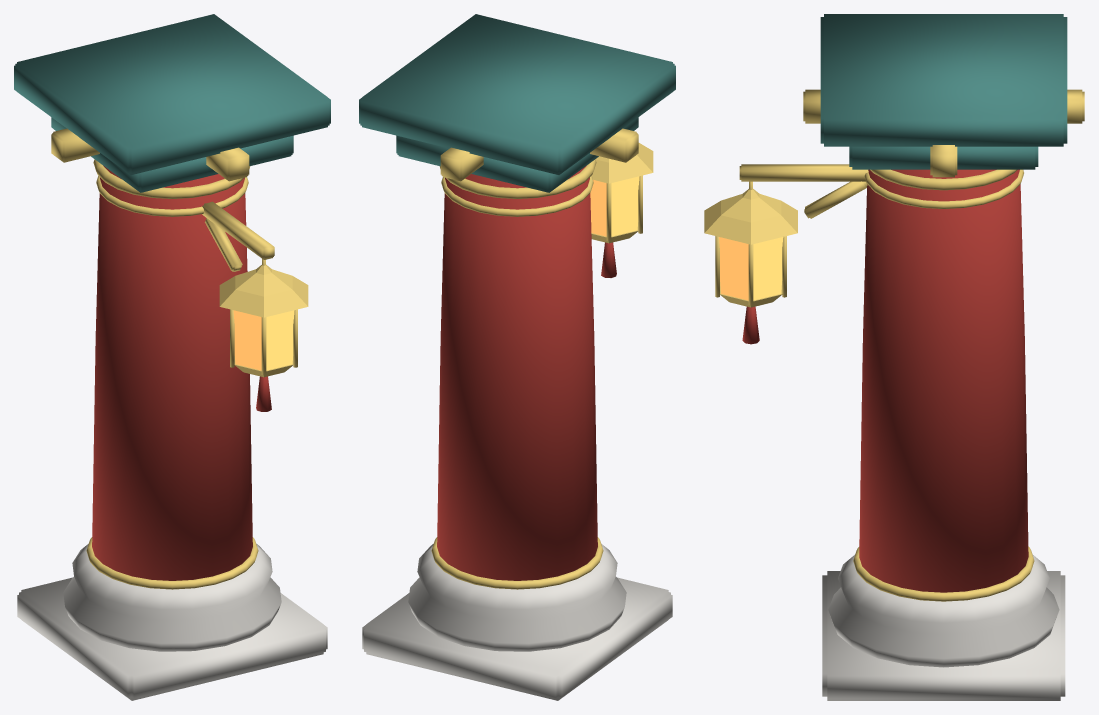
Rendered from PalacePillar.glb.
3 renders of one model, left to right at view 1: azimuth 30°, elevation 25°; view 2: azimuth 150°, elevation 25°; view 3: azimuth 270°, elevation 25°, orthographic. The views are drawn at different scales.
Parts seen in each view (by area): view 1: ColumnShaft, DougongTier2, MarbleDrumBase, SquarePlinth, PillarLanternRoof, DougongTier1, PillarLanternSilk, BaseGoldCollar, NeckGoldCollar, LanternArm, NeckGoldCollar2, BracketArm_4.7 (+2 smaller); view 2: ColumnShaft, DougongTier2, MarbleDrumBase, SquarePlinth, DougongTier1, PillarLanternSilk, BaseGoldCollar, NeckGoldCollar, PillarLanternRoof, NeckGoldCollar2, BracketArm_1.6, BracketArm_3.1; view 3: ColumnShaft, DougongTier2, MarbleDrumBase, SquarePlinth, DougongTier1, PillarLanternRoof, PillarLanternSilk, LanternArm, BaseGoldCollar, NeckGoldCollar, NeckGoldCollar2, LanternScroll (+3 smaller).
Part boxes in pixels (bbox=[...]): ColumnShaft: bbox=[92, 165, 252, 580]; DougongTier2: bbox=[14, 14, 330, 174]; MarbleDrumBase: bbox=[63, 544, 281, 651]; SquarePlinth: bbox=[17, 577, 327, 700]; PillarLanternRoof: bbox=[219, 264, 308, 317]; DougongTier1: bbox=[51, 117, 293, 192]; PillarLanternSilk: bbox=[233, 310, 294, 370]; BaseGoldCollar: bbox=[86, 537, 258, 589]; NeckGoldCollar: bbox=[93, 159, 250, 198]; LanternArm: bbox=[202, 201, 274, 259]; NeckGoldCollar2: bbox=[96, 176, 248, 216]; BracketArm_4.7: bbox=[206, 147, 249, 181]; ColumnShaft: bbox=[437, 165, 597, 580]; DougongTier2: bbox=[359, 14, 675, 174]; MarbleDrumBase: bbox=[408, 544, 626, 651]; SquarePlinth: bbox=[362, 577, 672, 700]; DougongTier1: bbox=[396, 117, 638, 192]; PillarLanternSilk: bbox=[590, 176, 639, 236]; BaseGoldCollar: bbox=[431, 537, 603, 589]; NeckGoldCollar: bbox=[439, 159, 596, 198]; PillarLanternRoof: bbox=[591, 143, 653, 183]; NeckGoldCollar2: bbox=[441, 176, 593, 216]; BracketArm_1.6: bbox=[440, 147, 483, 181]; BracketArm_3.1: bbox=[590, 128, 638, 162]; ColumnShaft: bbox=[859, 169, 1028, 592]; DougongTier2: bbox=[820, 14, 1067, 146]; MarbleDrumBase: bbox=[828, 554, 1059, 667]; SquarePlinth: bbox=[822, 571, 1065, 700]; DougongTier1: bbox=[849, 146, 1038, 169]; PillarLanternRoof: bbox=[704, 189, 797, 244]; PillarLanternSilk: bbox=[719, 237, 783, 300]; LanternArm: bbox=[739, 164, 868, 181]; BaseGoldCollar: bbox=[853, 546, 1034, 601]; NeckGoldCollar: bbox=[870, 169, 1017, 190]; NeckGoldCollar2: bbox=[864, 169, 1023, 208]; LanternScroll: bbox=[804, 181, 867, 218].
Size of the model in its own units: 1.46 by 3.36 by 1.97.
